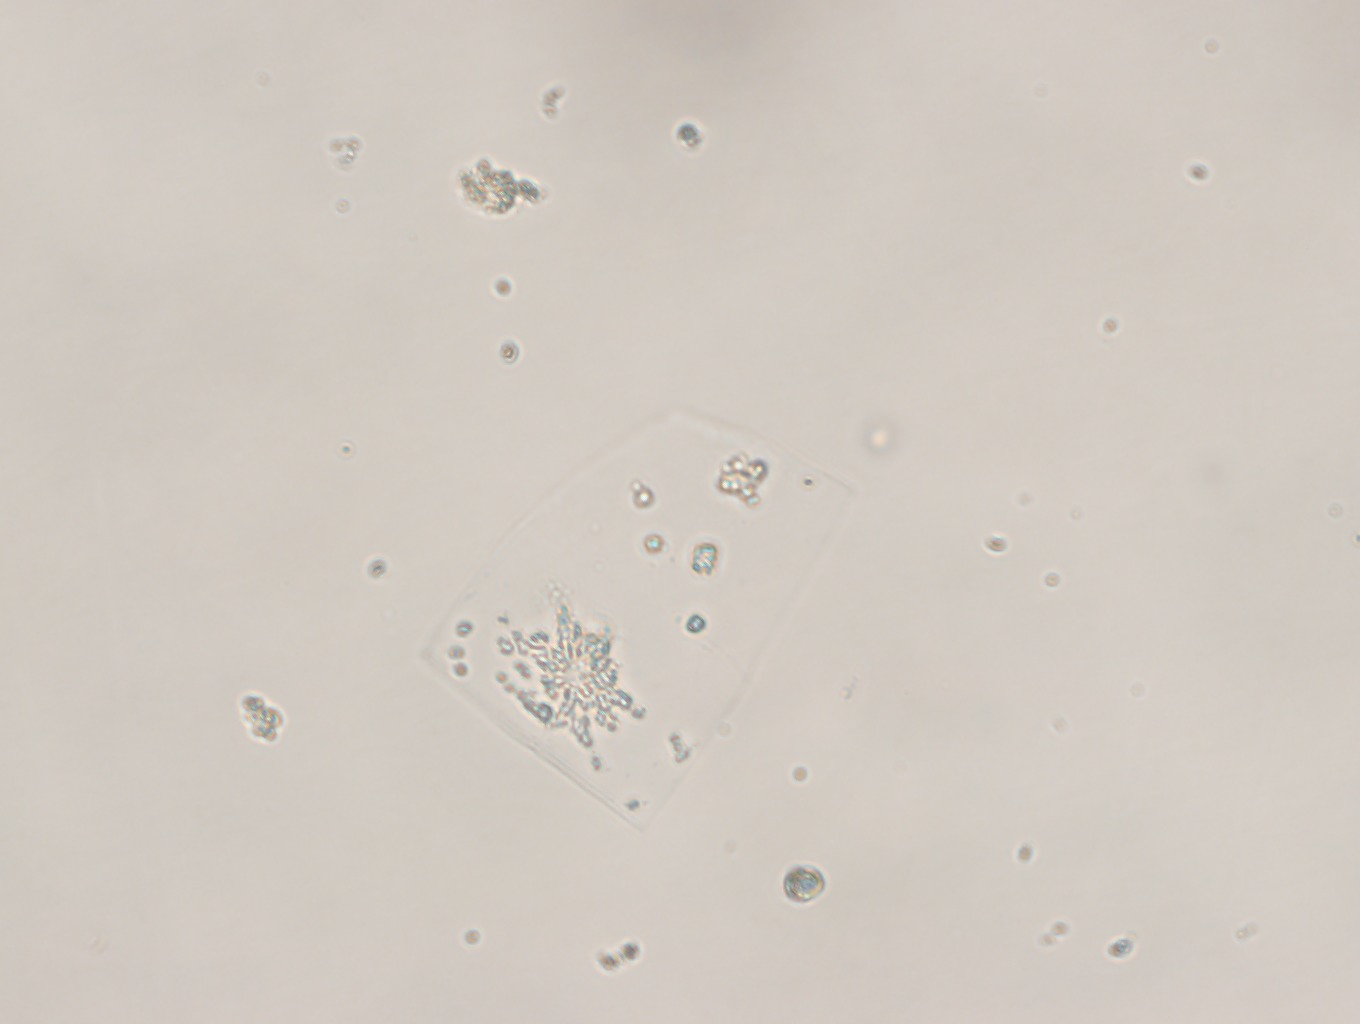helicotheca: (417, 406, 859, 835)
